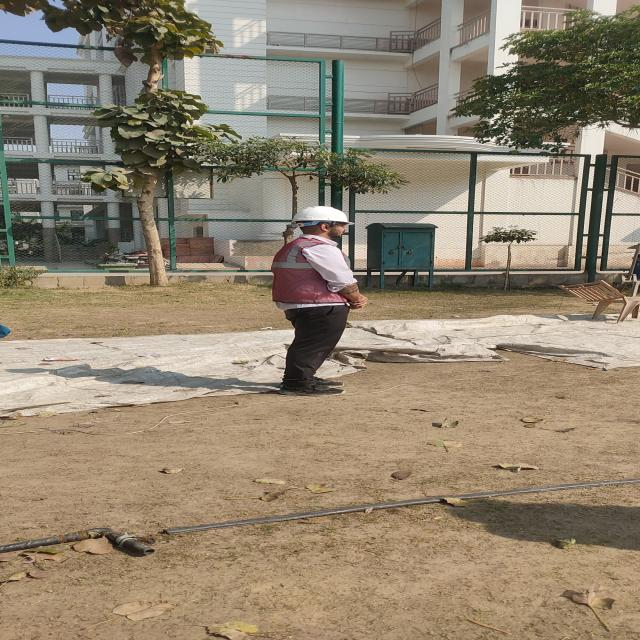safe: (271, 206, 366, 396)
